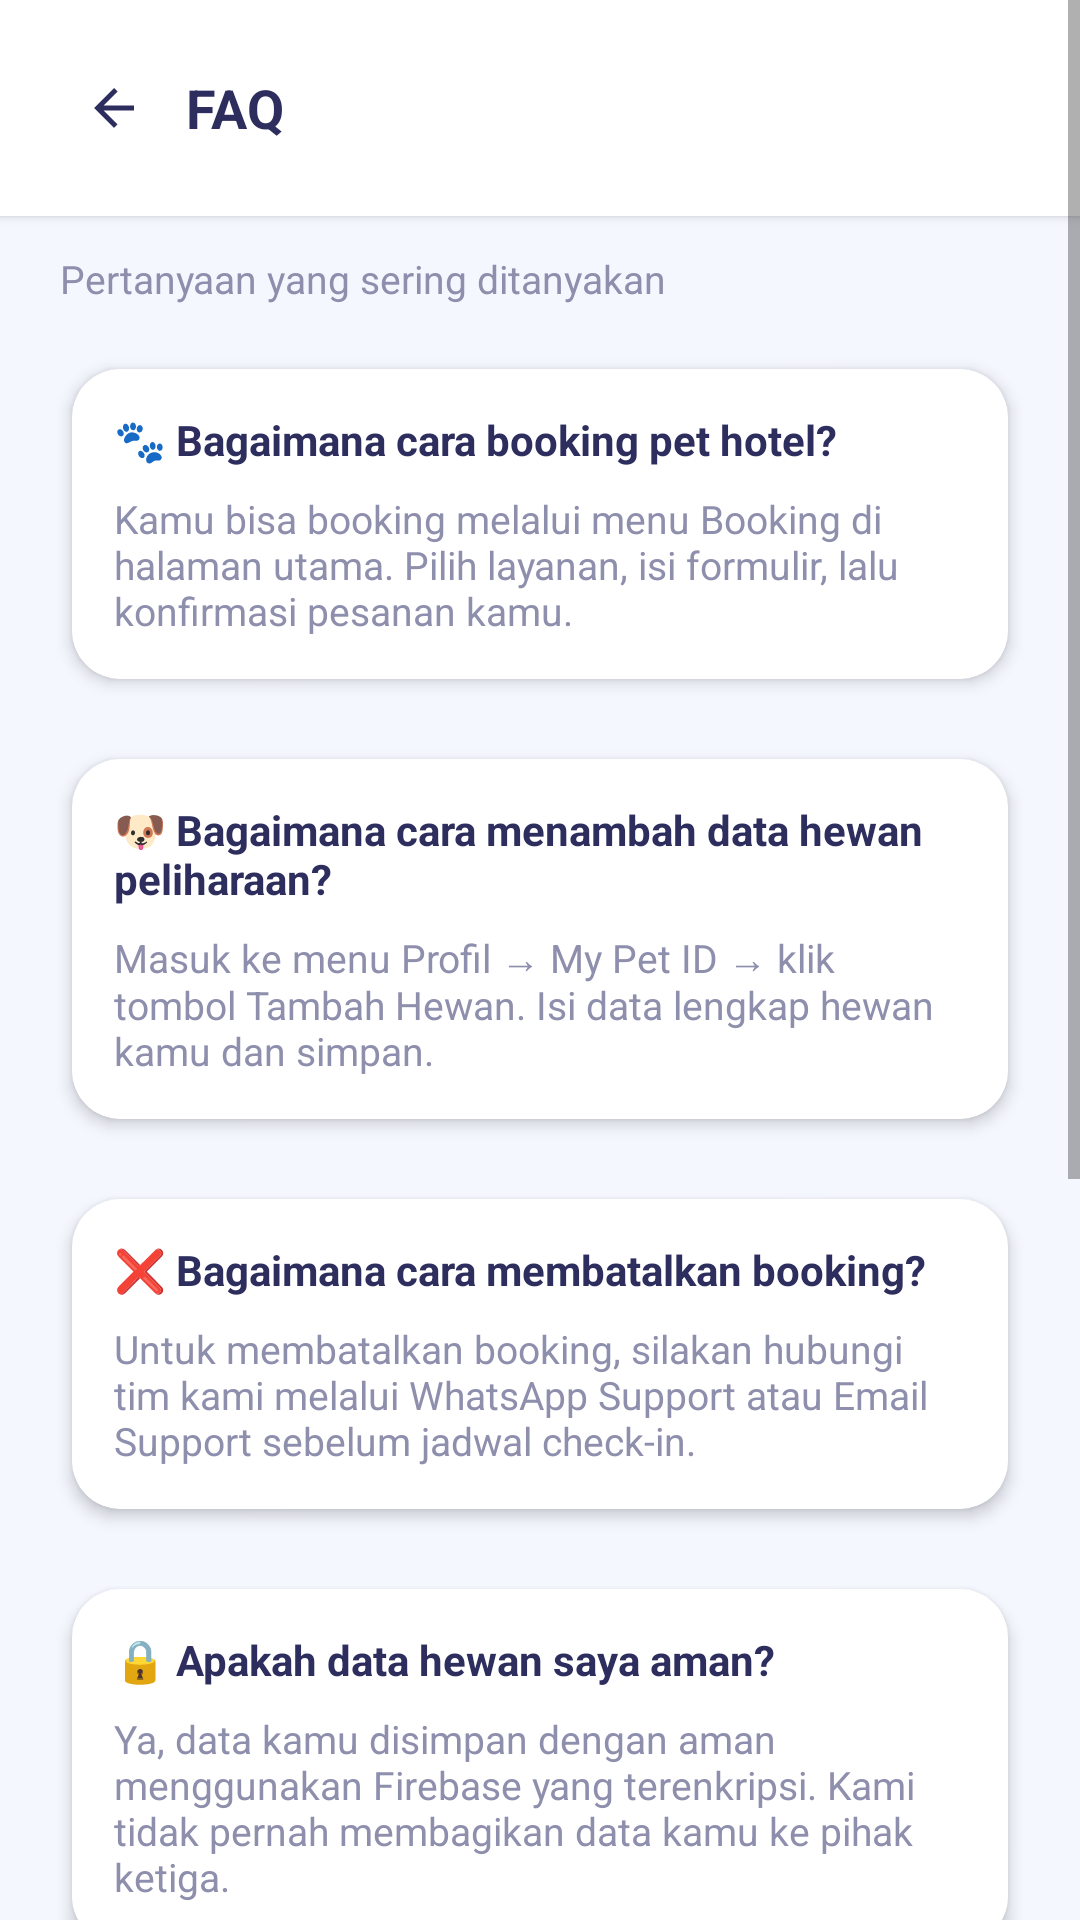

Named icons in this screenshot (1080*1920) and their centers, (x,y):
Kembali: (114,108)
